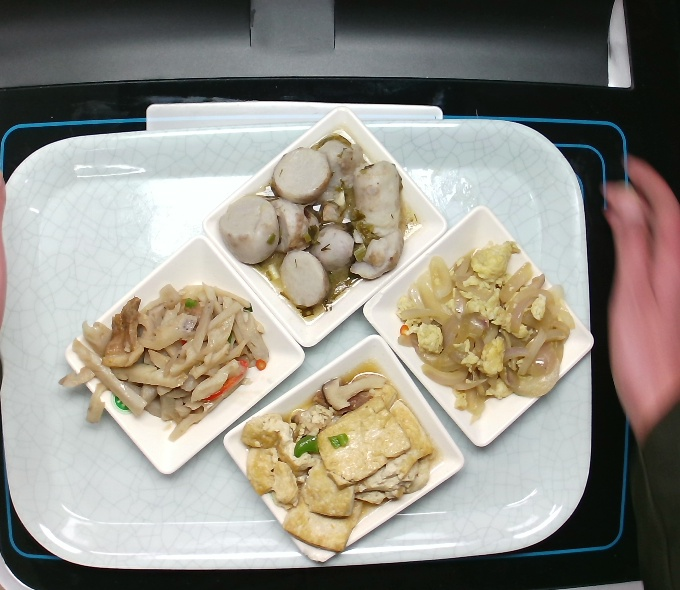wcq-JiaChangDouFu: (238, 364, 441, 556)
wcq-QingChaoOuPian: (48, 279, 273, 447)
wcq-YangCongChaoDan: (392, 236, 578, 424)
wcq-YangYu: (214, 124, 421, 324)
